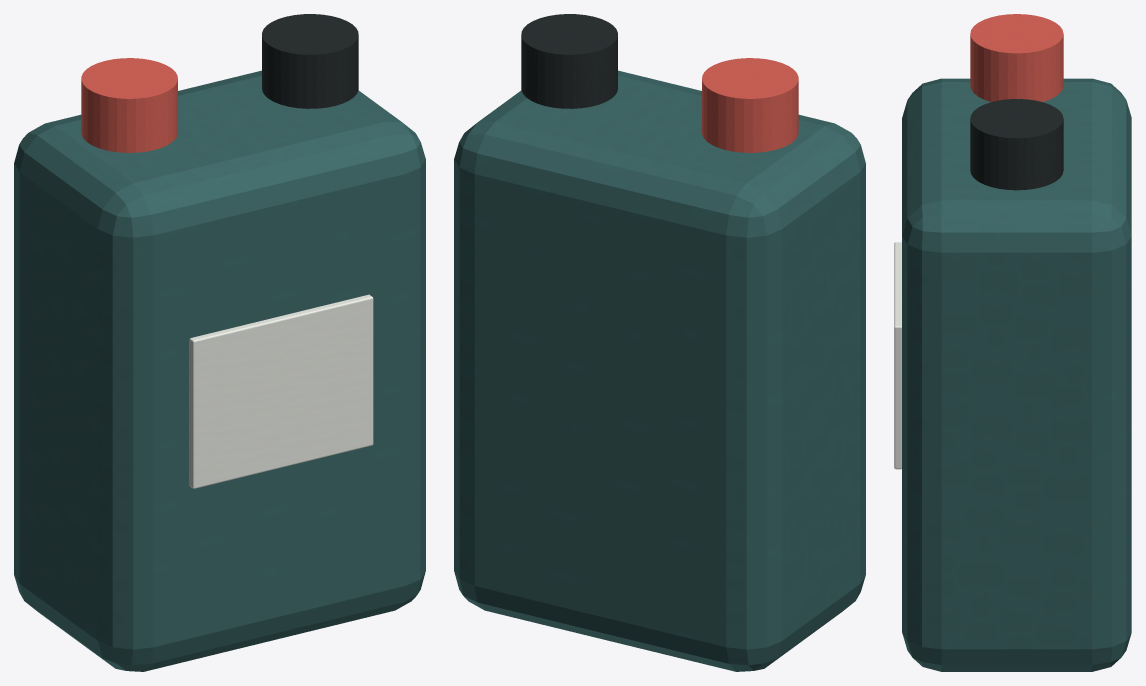
File: battery.glb
The picture shows the model from 3 angles, left to right: view 1: azimuth 30°, elevation 25°; view 2: azimuth 150°, elevation 25°; view 3: azimuth 270°, elevation 25°; orthographic projection. The views are drawn at different scales.
Visible parts, largest first — view 1: Battery_Case, Battery_Label, Positive_Terminal, Negative_Terminal; view 2: Battery_Case, Positive_Terminal, Negative_Terminal; view 3: Battery_Case, Negative_Terminal, Positive_Terminal, Battery_Label.
Boxes of the visible parts, x1=… form: Battery_Case: x1=14, y1=70, x2=425, y2=671; Battery_Label: x1=189, y1=294, x2=373, y2=488; Positive_Terminal: x1=81, y1=58, x2=177, y2=152; Negative_Terminal: x1=262, y1=14, x2=358, y2=108; Battery_Case: x1=454, y1=70, x2=865, y2=671; Positive_Terminal: x1=702, y1=58, x2=798, y2=152; Negative_Terminal: x1=521, y1=14, x2=617, y2=108; Battery_Case: x1=902, y1=78, x2=1131, y2=671; Negative_Terminal: x1=970, y1=99, x2=1063, y2=190; Positive_Terminal: x1=970, y1=14, x2=1063, y2=101; Battery_Label: x1=894, y1=242, x2=901, y2=469.
Bounding box in the file's own units: 0.5 × 0.82 × 0.331.
4 materials, 4 textured.
